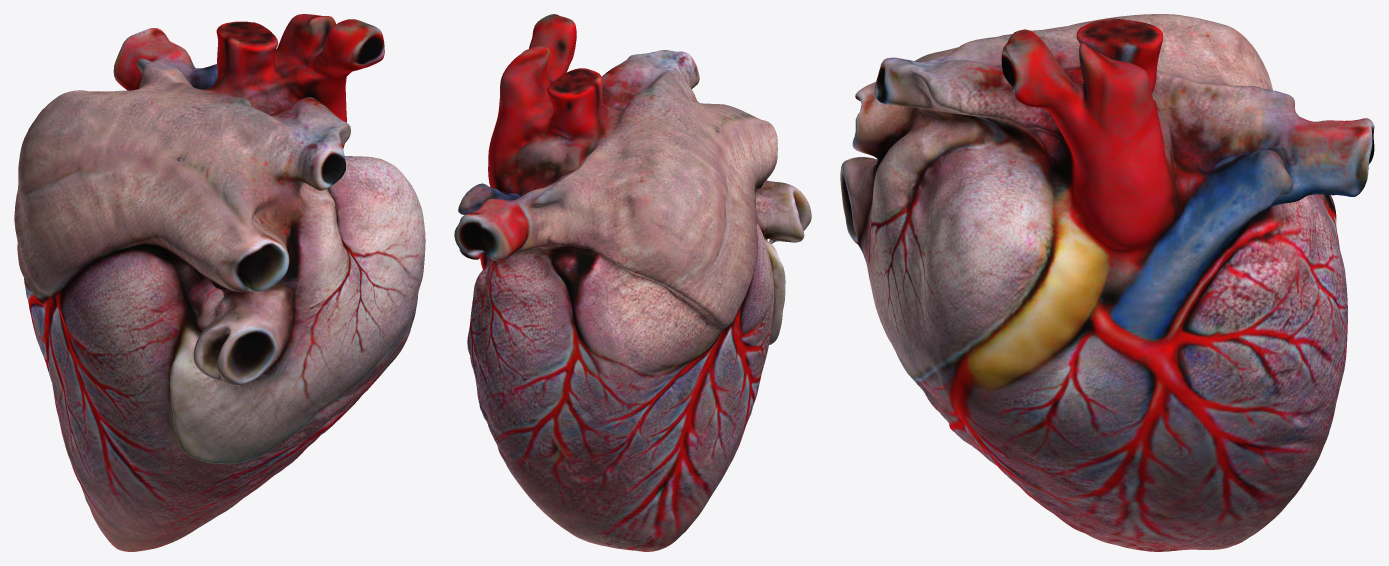
File: human-heart2.glb
3 views of the same model, side by side, from view 1: azimuth 30°, elevation 25°; view 2: azimuth 150°, elevation 25°; view 3: azimuth 270°, elevation 25° (orthographic). The views are drawn at different scales.
Parts seen in each view (by area): view 1: geometry_0; view 2: geometry_0; view 3: geometry_0.
Part boxes in pixels (x1=…): geometry_0: x1=14, y1=14, x2=425, y2=551; geometry_0: x1=454, y1=14, x2=811, y2=551; geometry_0: x1=840, y1=14, x2=1374, y2=551.
Bounding box in the file's own units: 0.326 × 0.5323 × 0.4264.
Materials: 1 (1 with a texture image).
